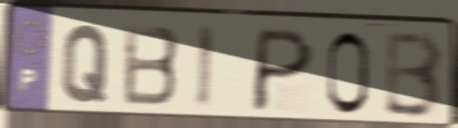0: (324, 28, 372, 117)
B: (380, 29, 445, 122), (121, 22, 183, 109)
I: (192, 22, 217, 113)
P: (247, 25, 318, 116)
Q: (59, 22, 112, 106)
